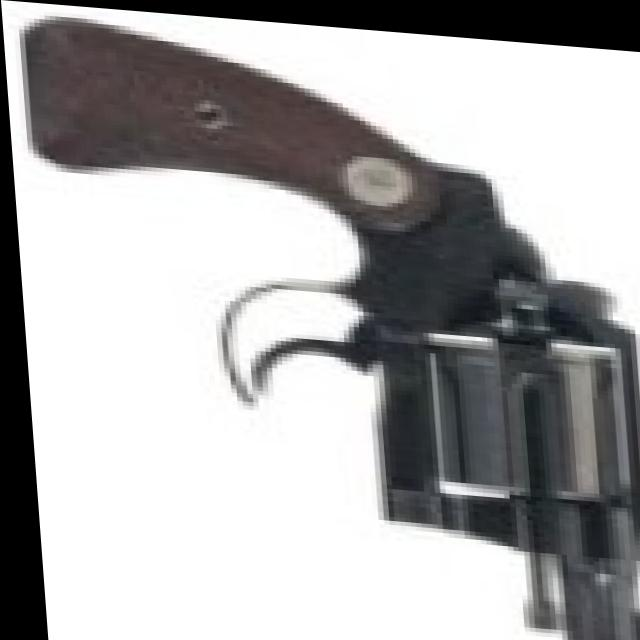handgun: (16, 9, 640, 640)
